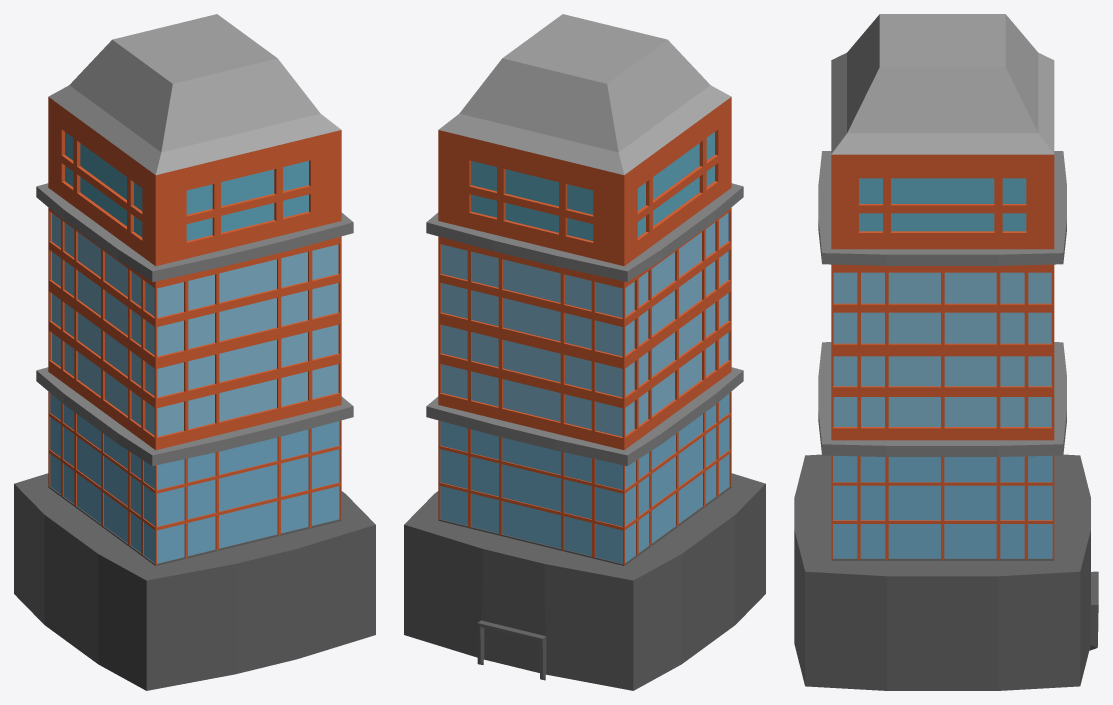
File: gedung tumpul.fbx
3 renders of one model, left to right at view 1: azimuth 30°, elevation 25°; view 2: azimuth 150°, elevation 25°; view 3: azimuth 270°, elevation 25°, orthographic. The views are drawn at different scales.
Visible parts, largest first — view 1: gedung tumpul; view 2: gedung tumpul; view 3: gedung tumpul.
Boxes of the visible parts, x1,y1,x2,y2 form: gedung tumpul: (14, 14, 375, 690); gedung tumpul: (404, 14, 765, 690); gedung tumpul: (794, 14, 1098, 690).
Bounding box in the file's own units: 3756 × 8305 × 3851.
